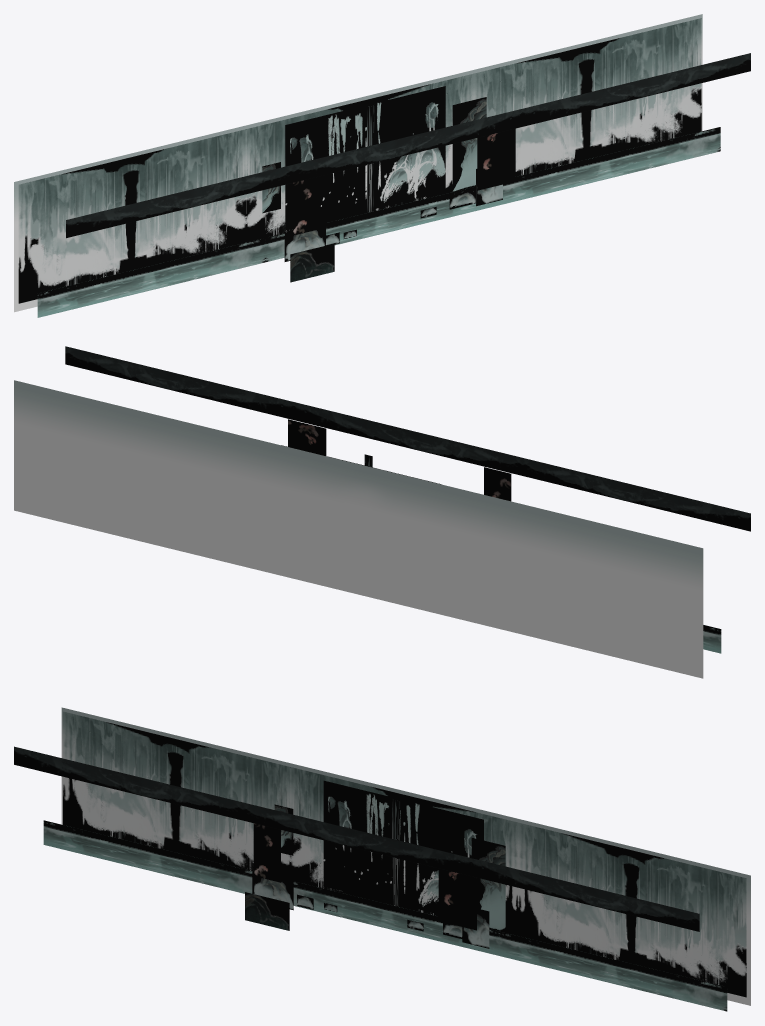
3 views of the same model, one above another, from view 1: azimuth 30°, elevation 25°; view 2: azimuth 150°, elevation 25°; view 3: azimuth 330°, elevation 25° (orthographic).
Parts seen in each view (by area): view 1: pubu-f, water, top, stone8-f, bg, tree0, stone7, tree1, stone, stone0, lines.001, stone6; view 2: bg, top, tree0, tree1; view 3: pubu-f, water, top, stone8-f, bg, tree0, stone7, tree1, stone, stone0, lines.001, stone5.
Part boxes in pixels (box(x1,y1,x2,y2)): pubu-f: box(18, 18, 701, 303); water: box(37, 127, 720, 317); top: box(66, 53, 750, 238); stone8-f: box(285, 86, 445, 230); bg: box(14, 14, 702, 312); tree0: box(477, 128, 515, 190); stone7: box(452, 97, 486, 191); tree1: box(292, 176, 319, 235); stone: box(290, 243, 334, 282); stone0: box(284, 222, 325, 261); lines.001: box(367, 104, 374, 212); stone6: box(262, 162, 280, 213); bg: box(14, 380, 703, 678); top: box(65, 346, 750, 531); tree0: box(288, 419, 326, 455); tree1: box(484, 467, 511, 501); pubu-f: box(63, 711, 746, 997); water: box(43, 820, 727, 1011); top: box(14, 746, 699, 931); stone8-f: box(323, 780, 483, 914); bg: box(61, 707, 750, 1005); tree0: box(438, 868, 476, 930); stone7: box(471, 837, 505, 932); tree1: box(253, 823, 280, 882); stone: box(245, 892, 289, 930); stone0: box(252, 870, 293, 910); lines.001: box(392, 798, 400, 906); stone5: box(462, 908, 489, 948).
Bounding box in the file's own units: 61.96 × 11.23 × 7.76.
Materials: 16 (16 with a texture image).
